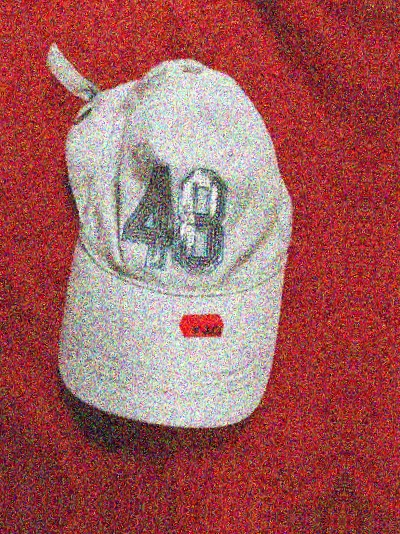Hat: (10, 34, 331, 443), (394, 62, 400, 471)
